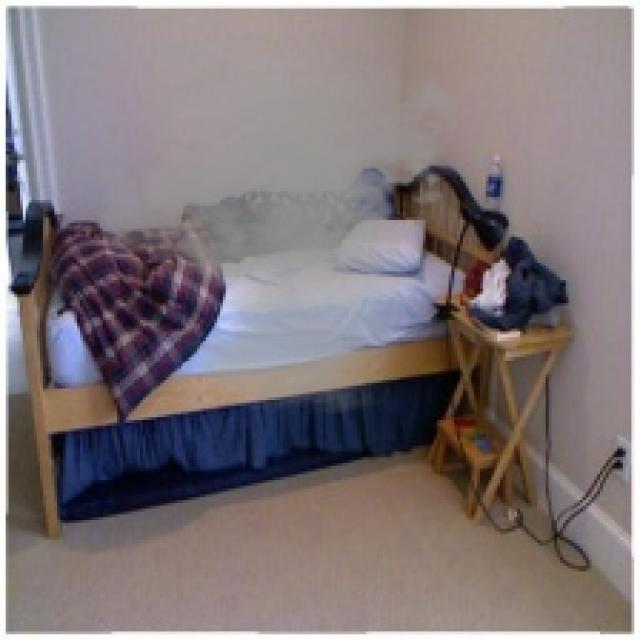smoke: (83, 32, 468, 414)
